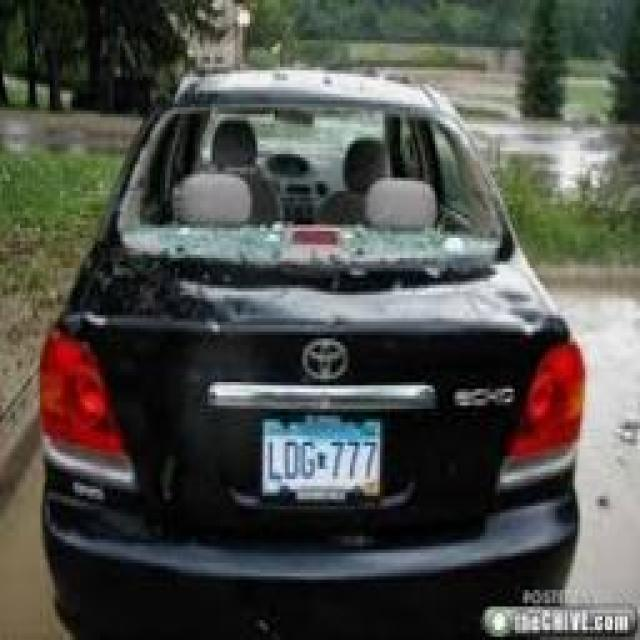replaceable: (138, 89, 505, 266)
